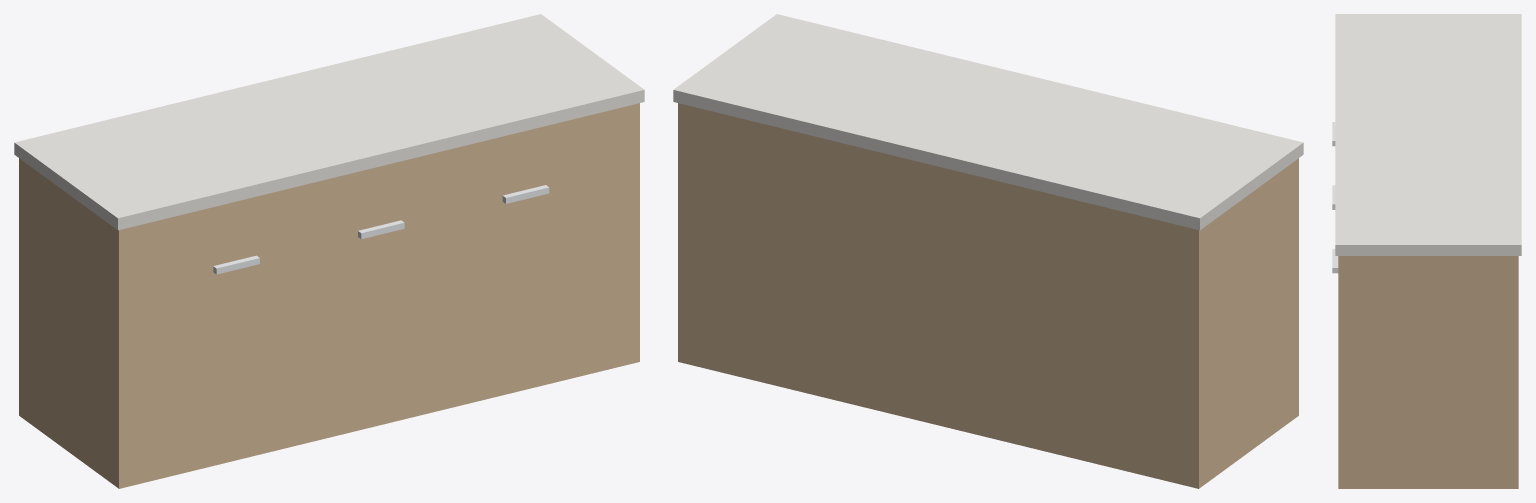
File: KITCHEN_COUNTER001.glb
The picture shows the model from 3 angles, left to right: view 1: azimuth 30°, elevation 25°; view 2: azimuth 150°, elevation 25°; view 3: azimuth 270°, elevation 25°; orthographic projection. The views are drawn at different scales.
Parts seen in each view (by area): view 1: FurnitureRoot; view 2: FurnitureRoot; view 3: FurnitureRoot.
Part boxes in pixels (x1,y1,x2,y2): FurnitureRoot: [14, 14, 644, 488]; FurnitureRoot: [673, 14, 1303, 488]; FurnitureRoot: [1332, 14, 1521, 488].
Size of the model in its own units: 182 by 90 by 63.
